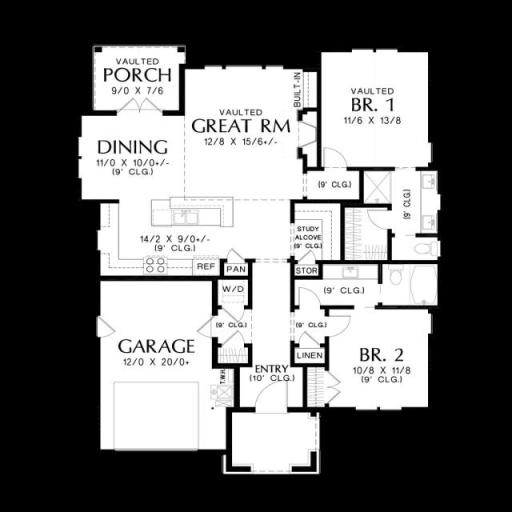bedroom: (333, 306, 447, 417), (330, 55, 427, 158)
garage: (105, 282, 233, 439)
hall: (189, 74, 314, 190), (124, 194, 301, 263), (85, 114, 192, 193)
porch: (93, 49, 178, 105)
